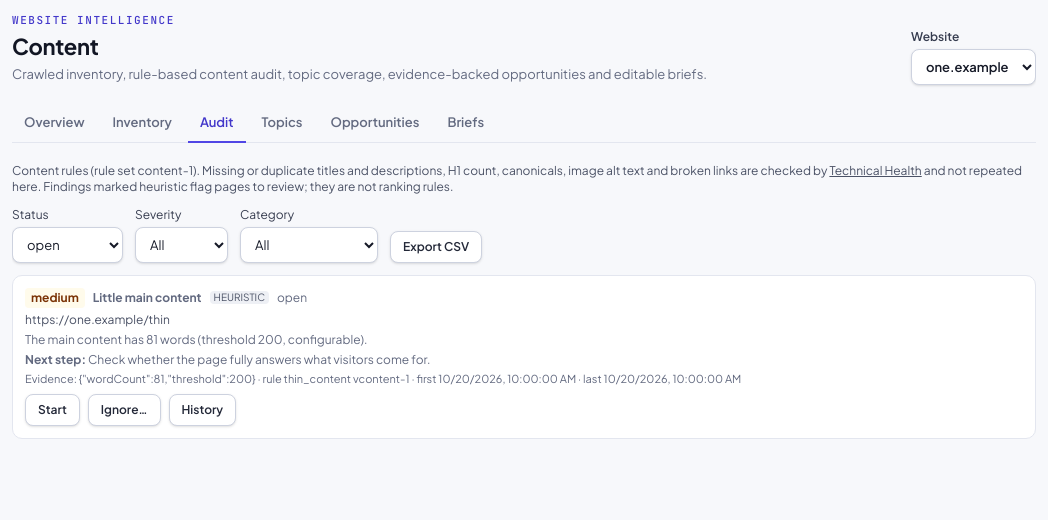
it: Audit › shows evidence, heuristic labels and lifecycle controls; ignoring needs a reason
Expected: the list item with aria-label "Finding Little main content" shows "heuristic", left=214, top=291, right=265, bottom=303
Expected: the list item with aria-label "Finding Little main content" shows "81 words", left=25, top=332, right=368, bottom=347
Click the button "Ignore…" at [124, 410], box left=88, top=394, right=160, bottom=426
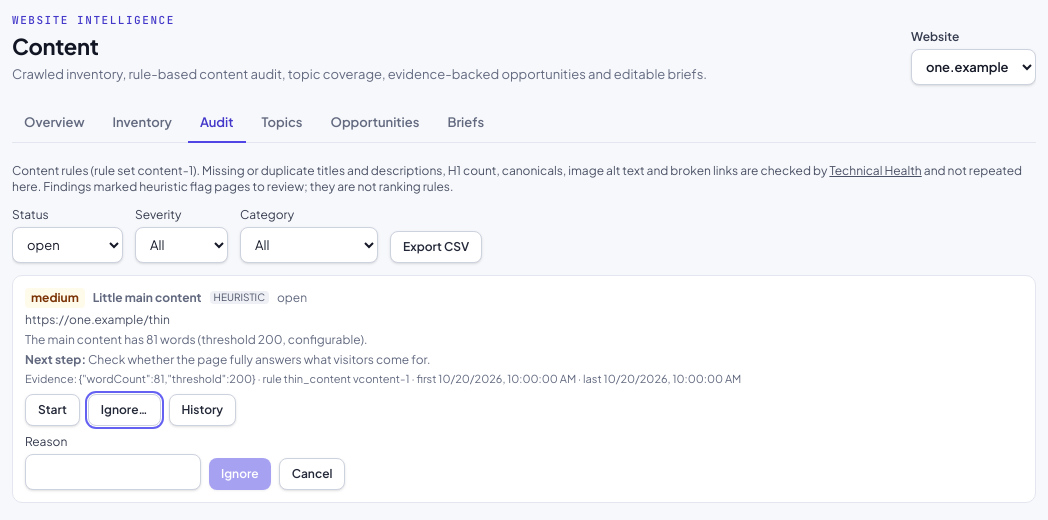
Expected: the button "Ignore" is disabled, left=209, top=458, right=271, bottom=490
Type "Intentional landing page" into the field labelled "Reason" at [113, 472], box left=25, top=454, right=201, bottom=490
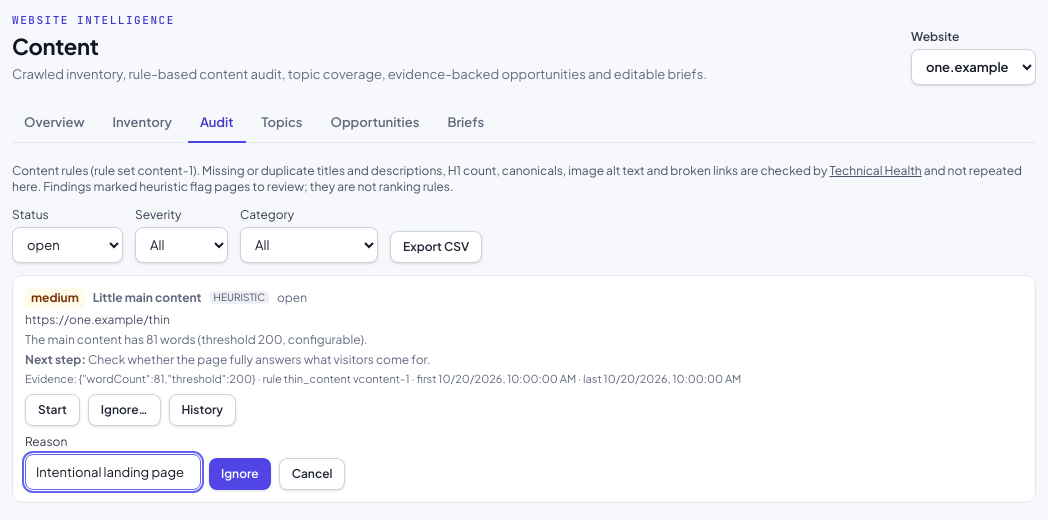
Click the button "Ignore" at [240, 474], box left=209, top=458, right=271, bottom=490
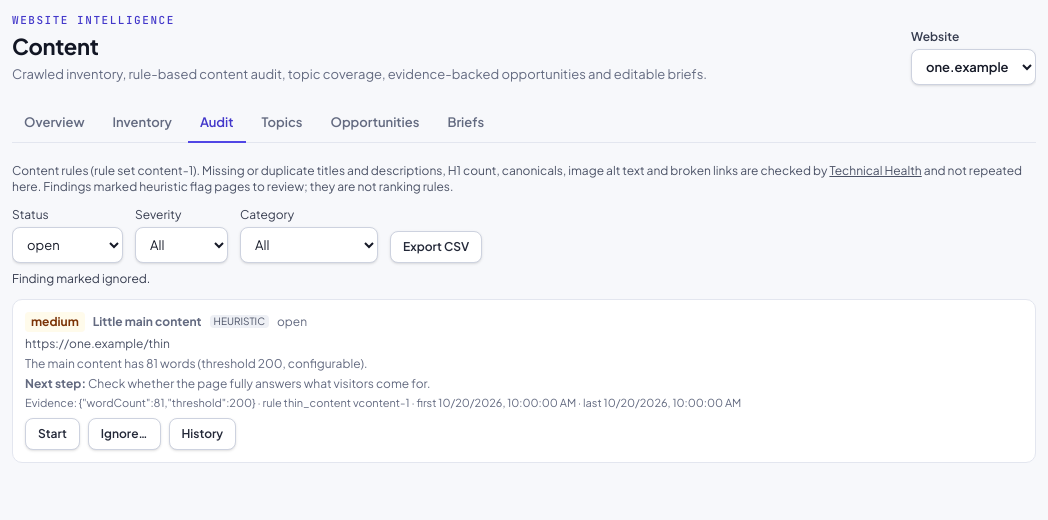
Click the button "History" at [202, 434], box left=168, top=418, right=236, bottom=450
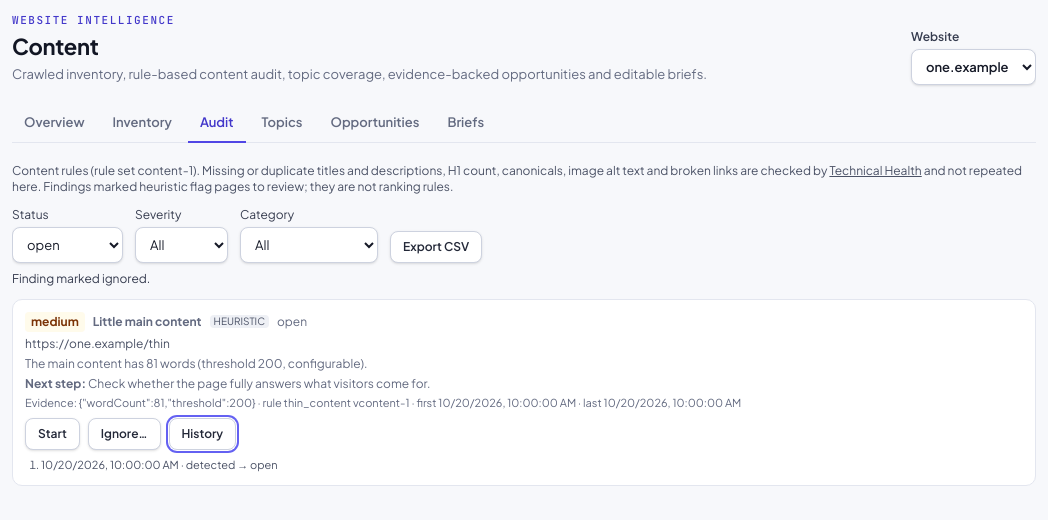
Expected: the list item "10/20/2026, 10:00:00 AM · detected → open" is shown, left=41, top=458, right=278, bottom=471
